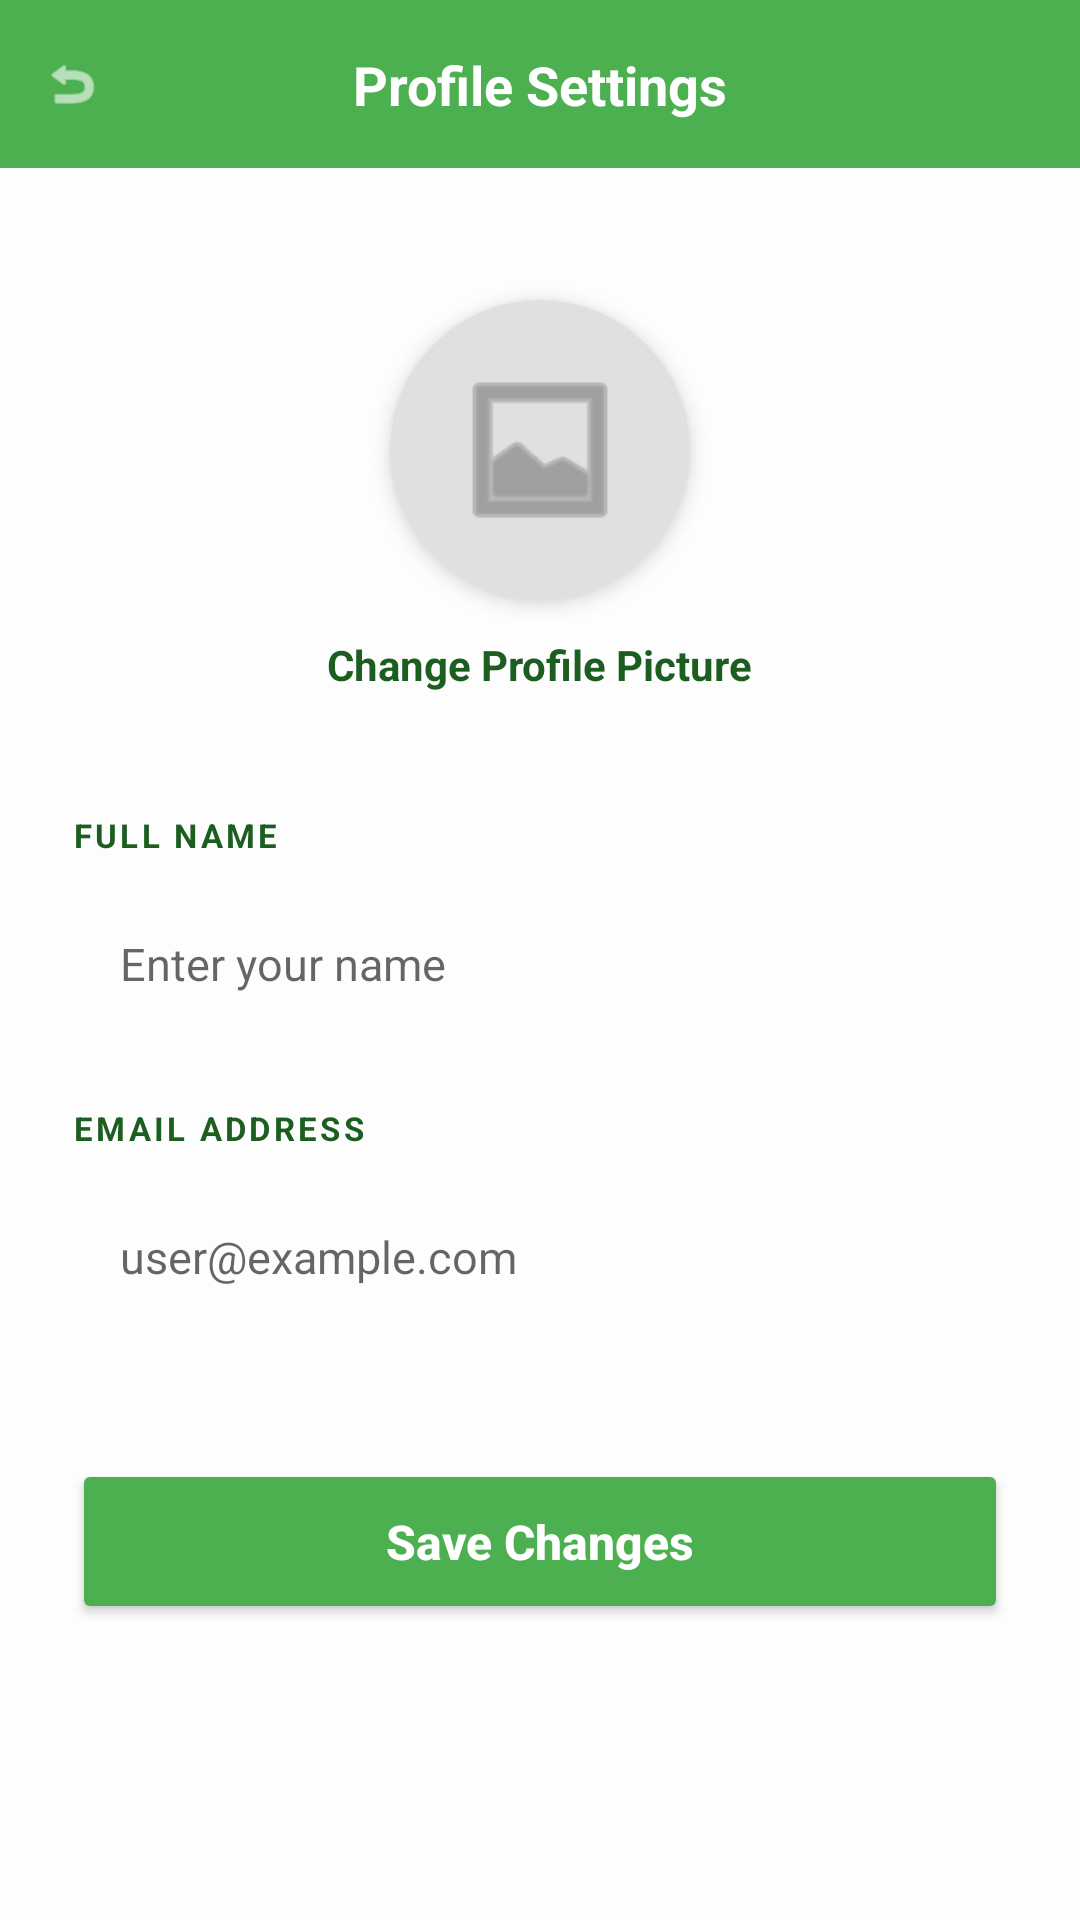

Screen size 1080 x 1920. Icon name, then its center in pixels as (x=x, y=y):
gallery: (x=540, y=450)
revert: (x=72, y=84)
